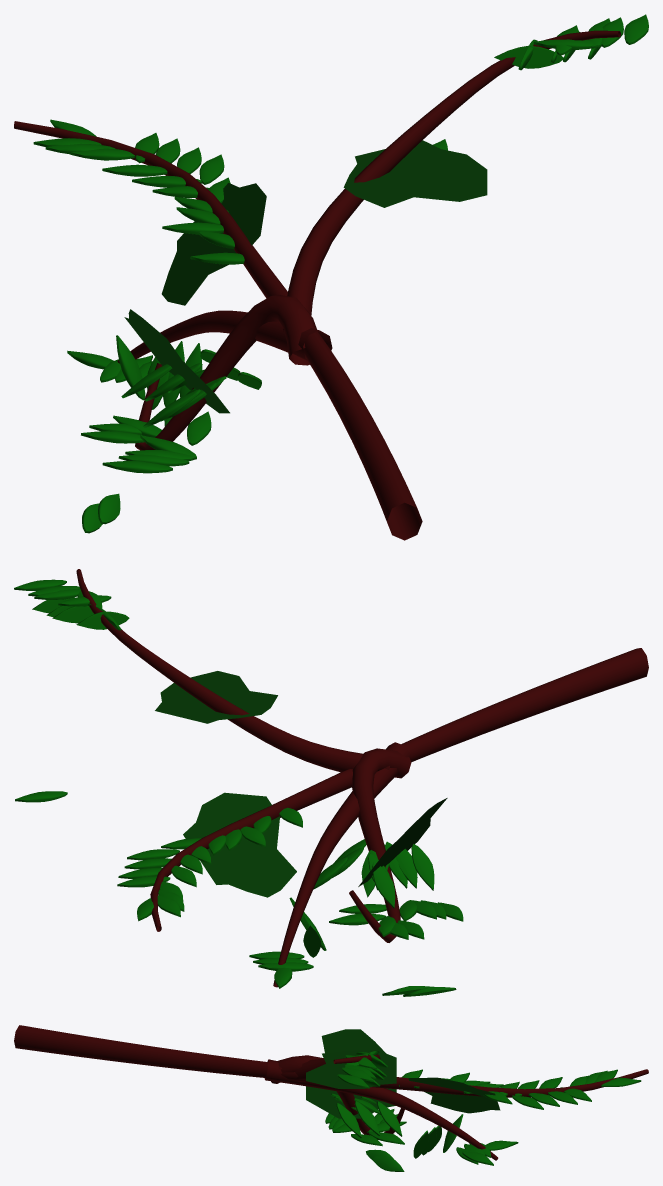
File: TREE2 BIGGER ONE REAL.glb
3 renders of one model, top to bottom at view 1: azimuth 30°, elevation 25°; view 2: azimuth 150°, elevation 25°; view 3: azimuth 270°, elevation 25°, orthographic. The views are drawn at different scales.
Visible parts, largest first — view 1: pCube102; view 2: pCube102; view 3: pCube102.
Boxes of the visible parts, x1,y1,x2,y2 form: pCube102: (14,14,648,540); pCube102: (14,569,648,996); pCube102: (14,1025,648,1171).
Size of the model in its own units: 0.1512 by 0.103 by 0.2368.
